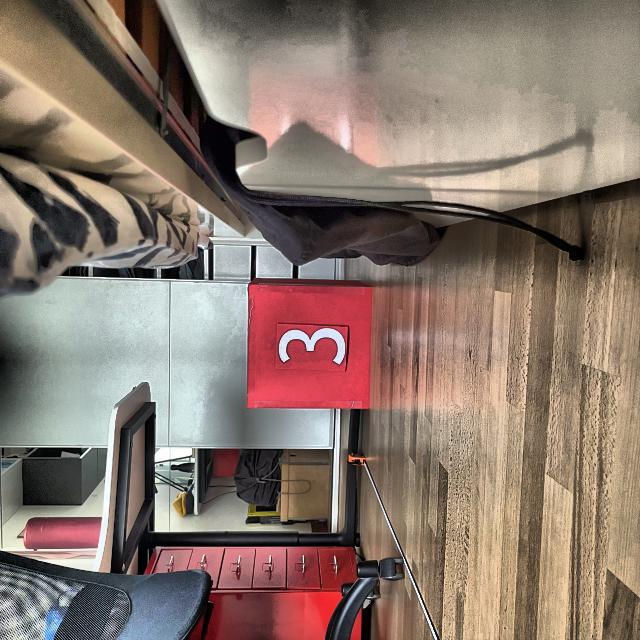red box: (245, 275, 371, 411)
three: (279, 327, 346, 366)
